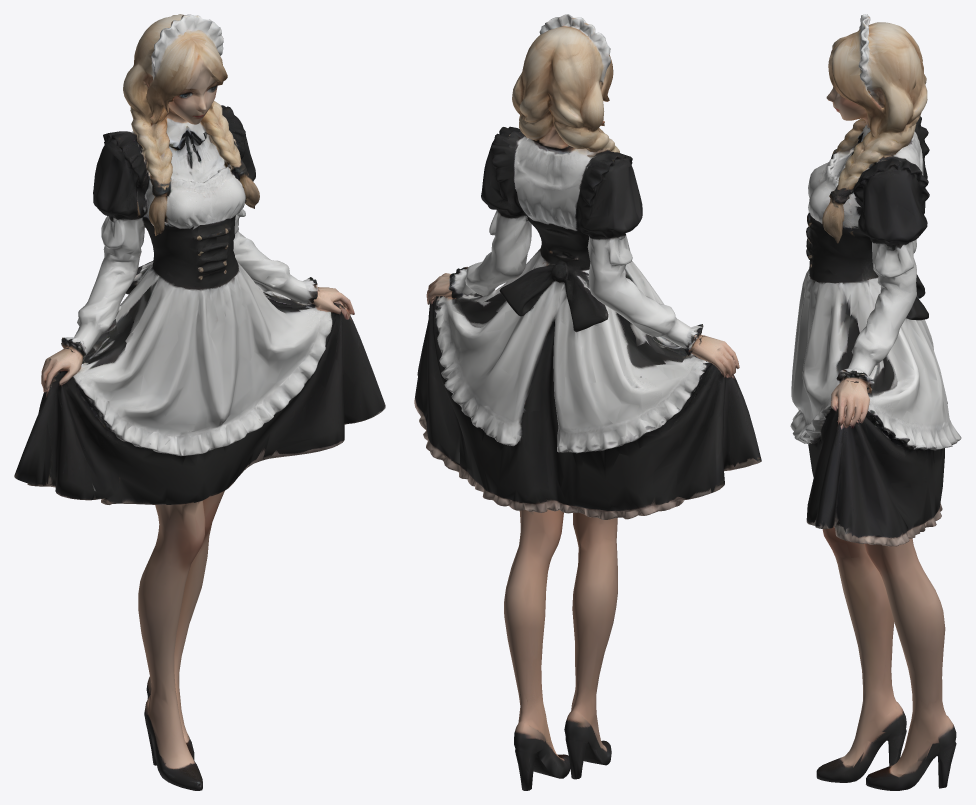
File: MaidHall.glb
The picture shows the model from 3 angles, left to right: view 1: azimuth 30°, elevation 25°; view 2: azimuth 150°, elevation 25°; view 3: azimuth 270°, elevation 25°; orthographic projection. The views are drawn at different scales.
Visible parts, largest first — view 1: MaidHall; view 2: MaidHall; view 3: MaidHall.
Part boxes in pixels (left/top/right/bottom): MaidHall: left=14, top=14, right=385, bottom=790; MaidHall: left=414, top=14, right=761, bottom=790; MaidHall: left=790, top=14, right=961, bottom=790.
Size of the model in its own units: 0.8432 by 1.7 by 0.3445.
1 material, 1 textured.
